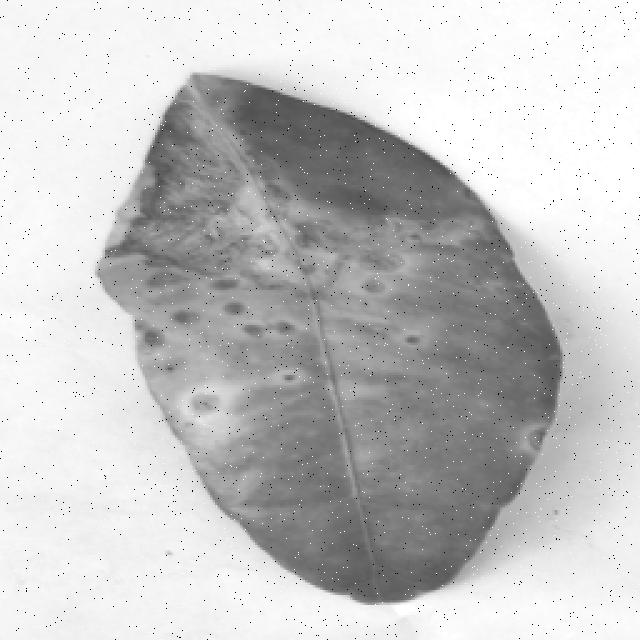canker: (102, 95, 551, 478)
